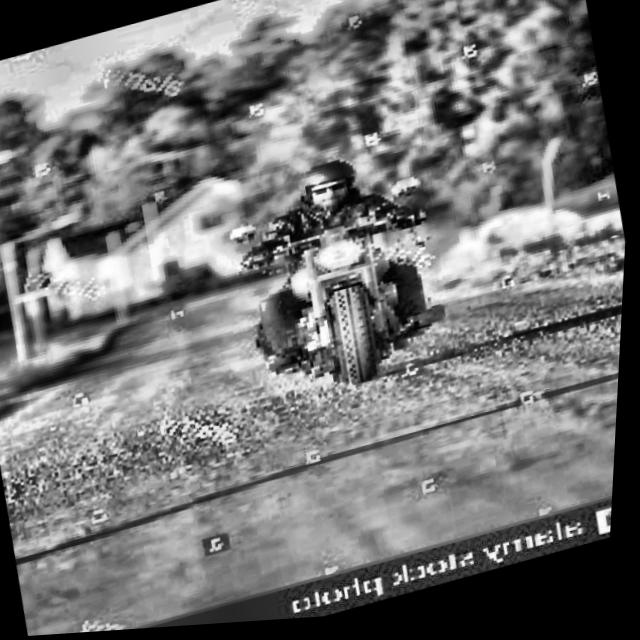motorcycle: (198, 158, 473, 429)
